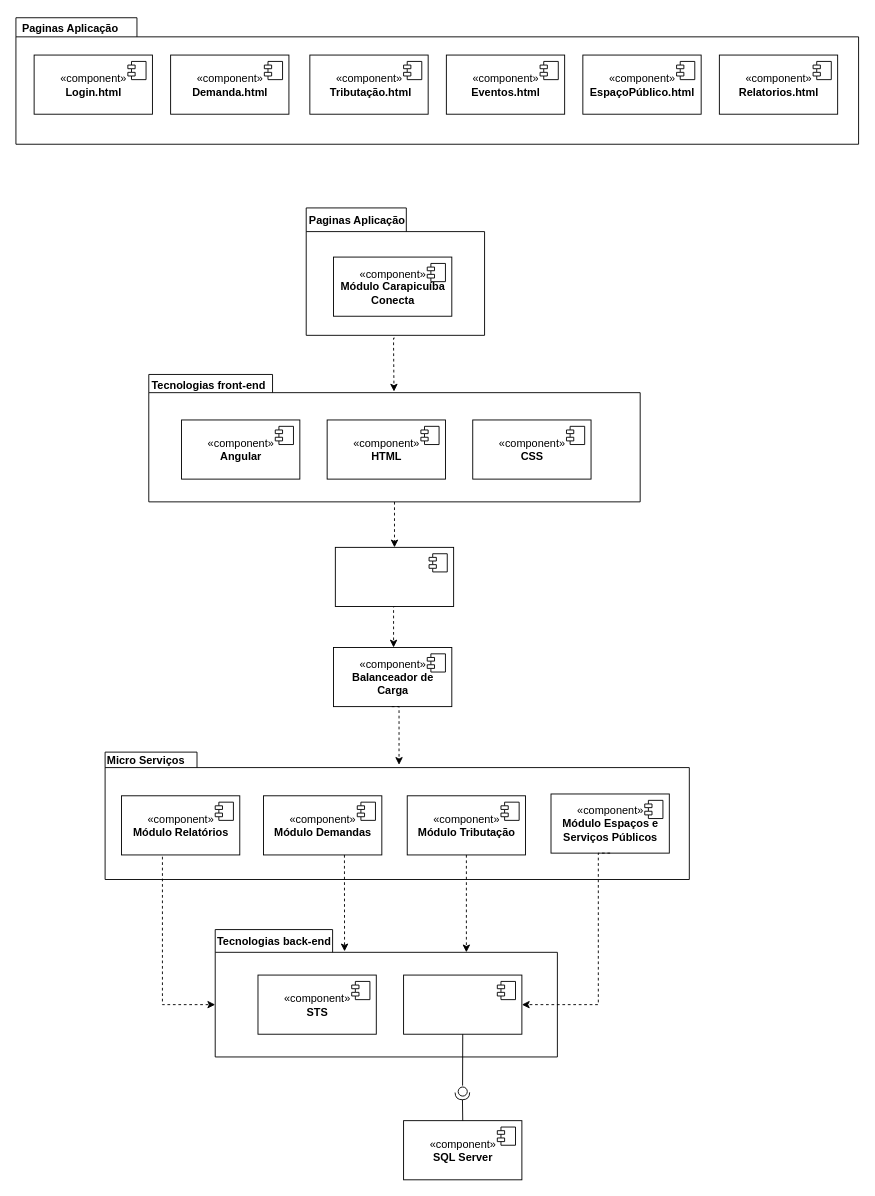
This 875x1196 diagram has some shape labels left out. Here are the shapes that lost their labels. From the top down, the centre of each, then its label:
At pixel 394 576: "«component» API Gateway".
At pixel 462 1004: "«component» .Net Core".
